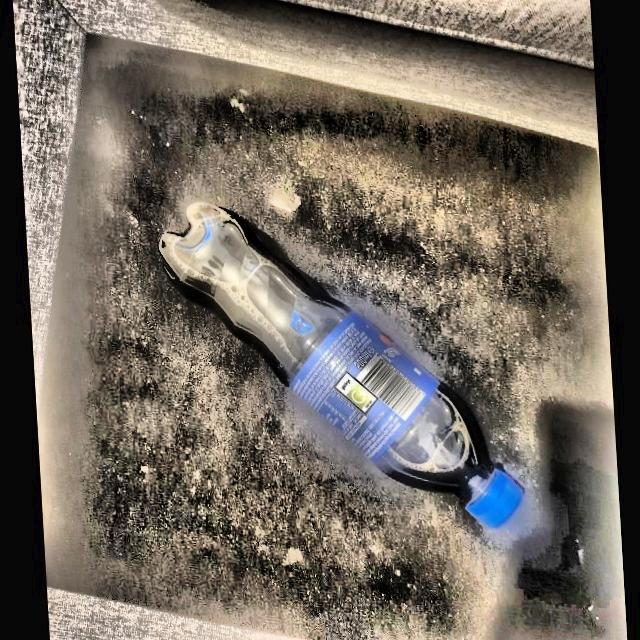pepsi-bottle: (156, 203, 528, 537)
